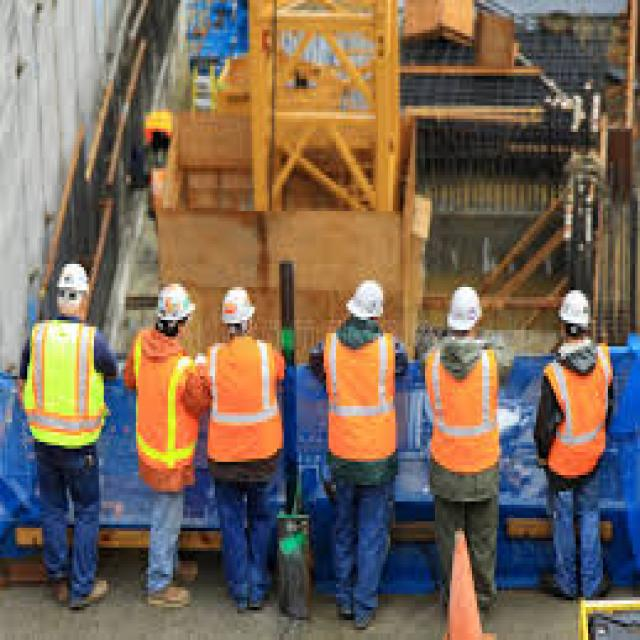Reflective-Jacket: (322, 330, 401, 478), (425, 343, 502, 488), (27, 317, 106, 455), (208, 336, 286, 472), (131, 330, 198, 488), (541, 343, 615, 485)
Safety-Helmet: (440, 277, 487, 337), (150, 274, 198, 330), (341, 274, 388, 326), (554, 284, 598, 336), (218, 280, 260, 330), (49, 254, 94, 300)
